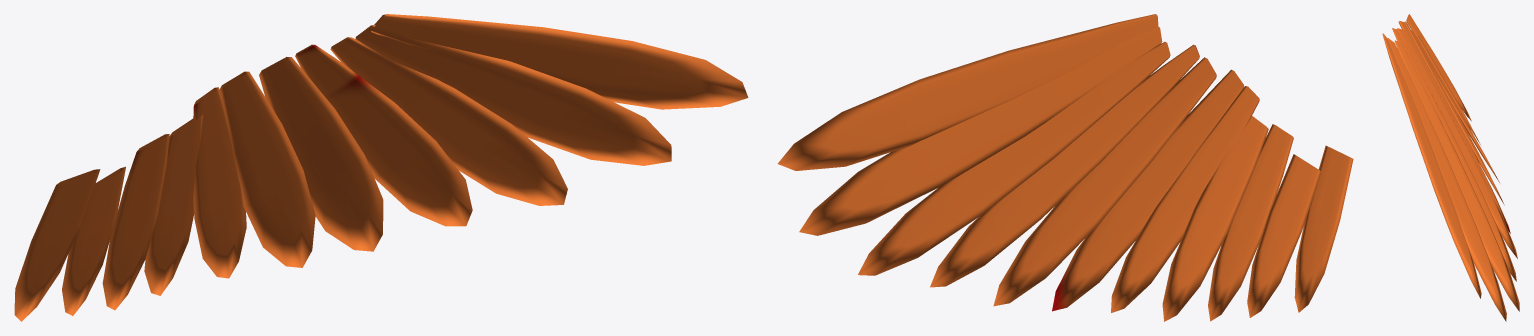
Rendered from alaIzq_pajaro_tel.obj.
3 renders of one model, left to right at view 1: azimuth 30°, elevation 25°; view 2: azimuth 150°, elevation 25°; view 3: azimuth 270°, elevation 25°, orthographic. The views are drawn at different scales.
Parts seen in each view (by area): view 1: polySurface1; view 2: polySurface1; view 3: polySurface1.
Boxes of the visible parts, box(x1,y1,x2,y2) form: polySurface1: box(14, 14, 748, 321); polySurface1: box(777, 14, 1353, 321); polySurface1: box(1382, 14, 1519, 321).
Size of the model in its own units: 111 by 49.45 by 31.25.
